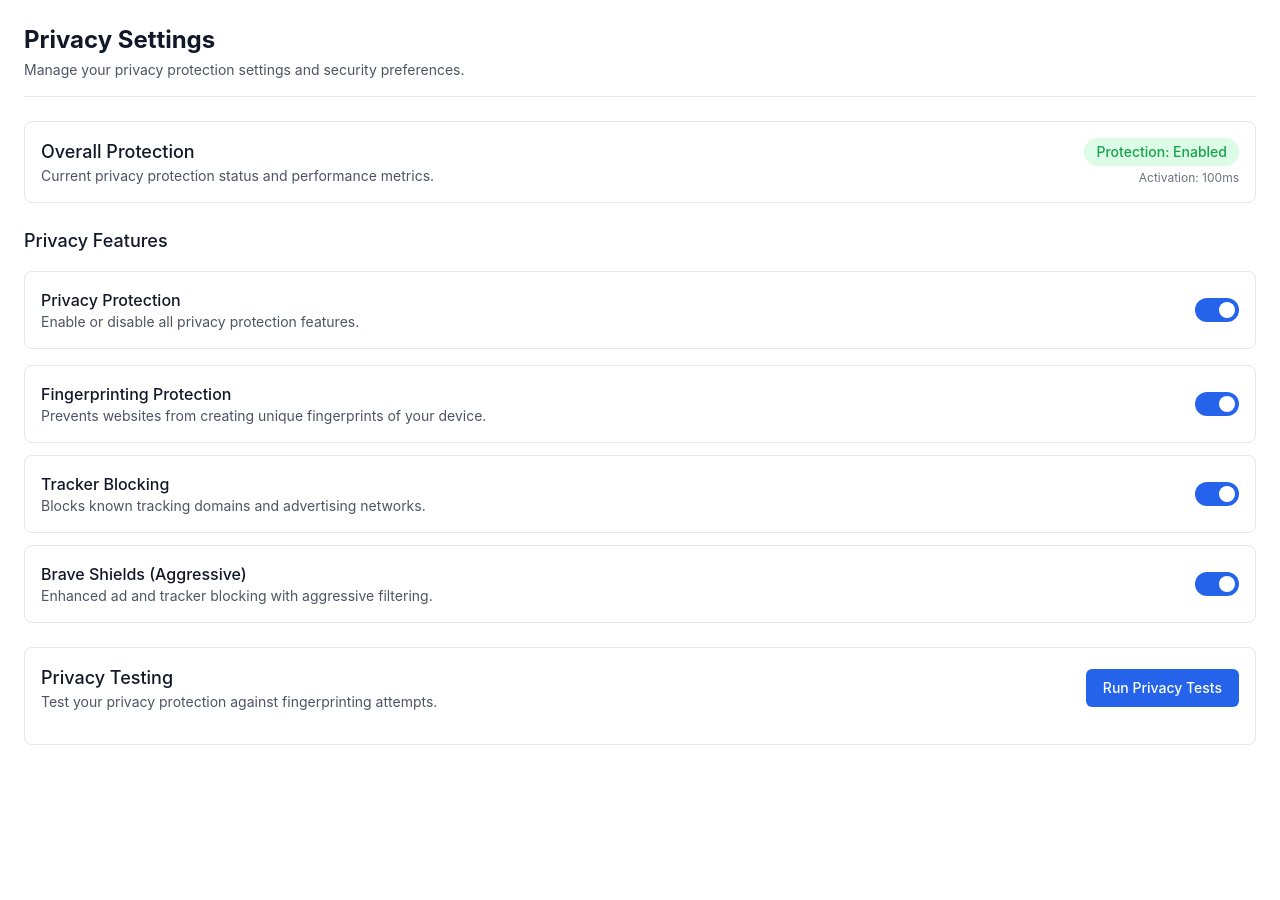
Test: PrivacySettings › fingerprinting tests › should show loading state during tests
Click the button "Run Privacy Tests" at (1162, 688), box [1086,669,1239,707]
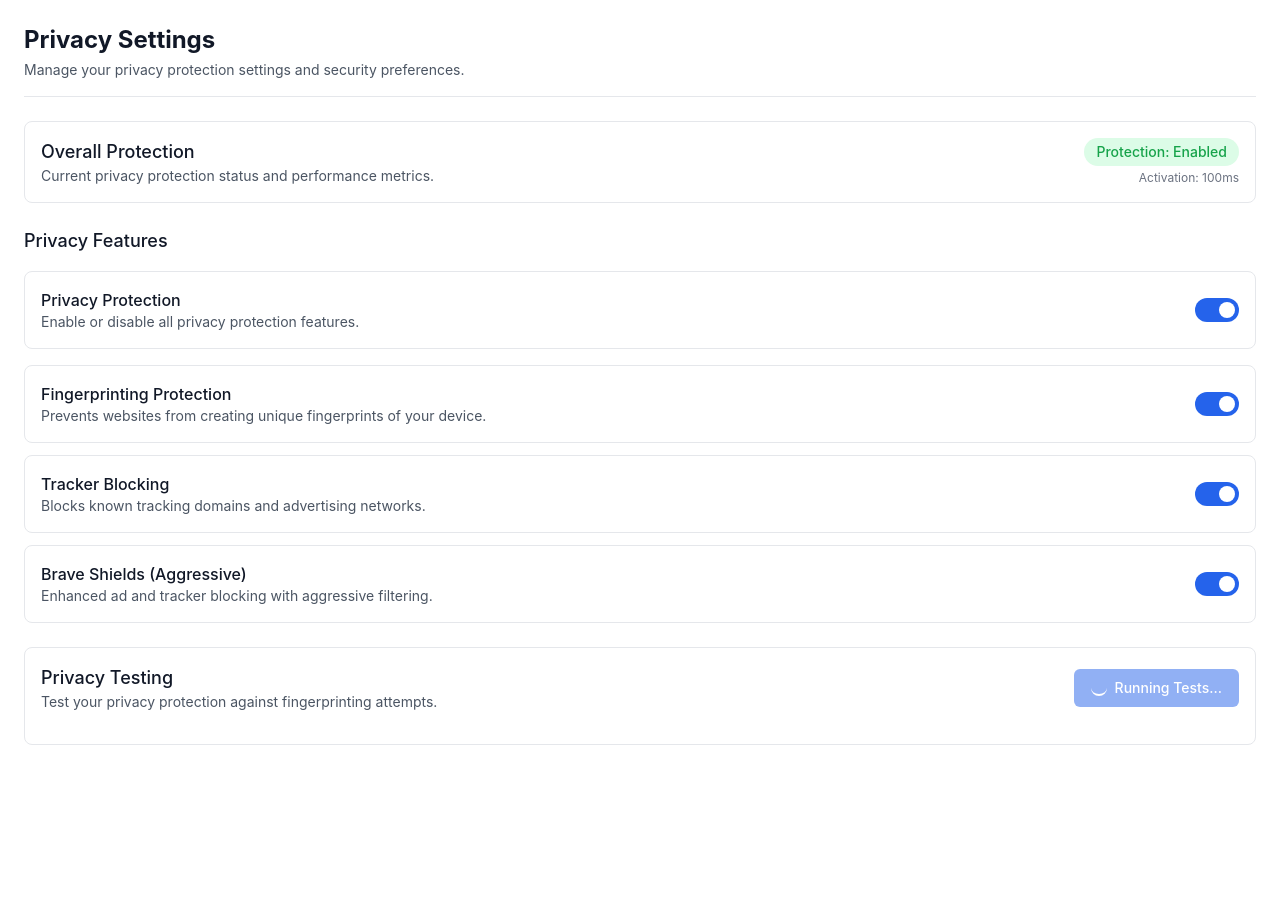
Check: the button "Running Tests..." is disabled, box [1074,669,1239,707]
